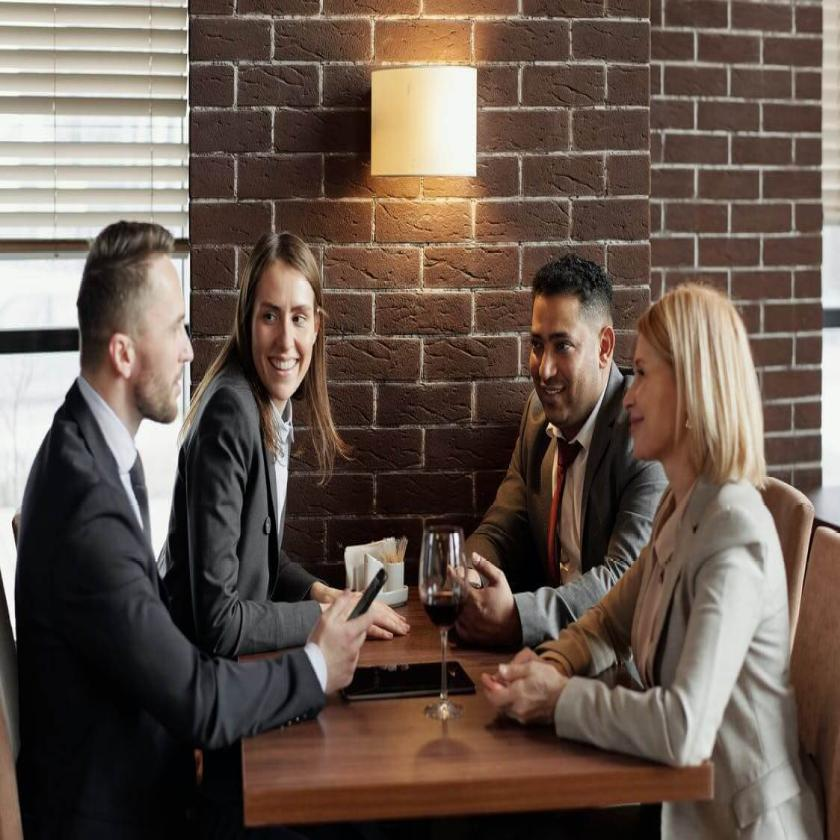Sin_casco: (74, 208, 203, 452), (623, 285, 762, 510), (518, 245, 621, 458), (235, 219, 325, 426)
